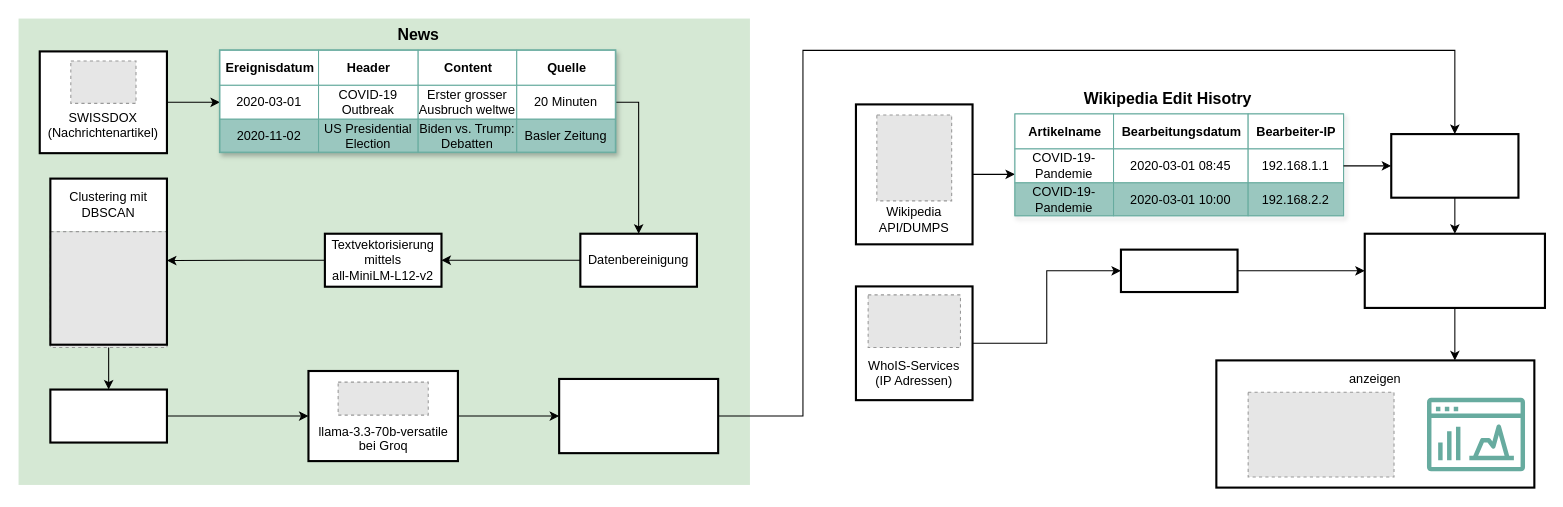
Image size: 1563x507. Some labels were removed from this diagram. Grey dashed boxes stand in for pictures. Each missing label, with the centre of its shape:
Artikel nach Themen geclustered: (x=108, y=415)
Identifikation relevanter Wikipediaartikel LLM/EMBEDDING: (x=1454, y=165)
Json-Response mit relevanten Wikipedia-Seiten zu jedem Thema: (x=638, y=415)
Modellentwicklung (NLP-Modell für Artikel und wiederholte Bearbeitungen): (x=1454, y=270)
von wem: (x=1178, y=270)
